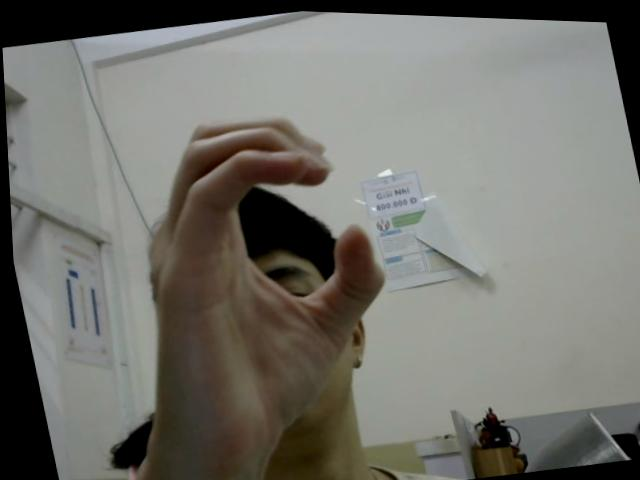C: (116, 92, 415, 460)
